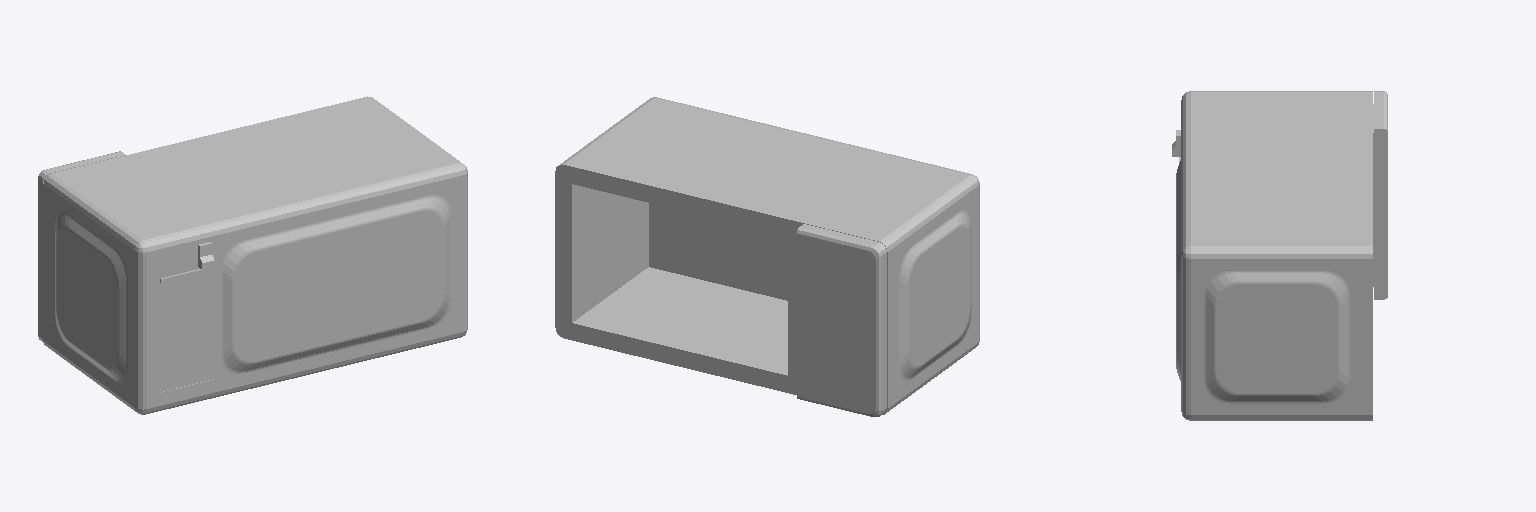
The model's file is data microwave body.obj.
The picture shows the model from 3 angles: view 1: azimuth 30°, elevation 25°; view 2: azimuth 150°, elevation 25°; view 3: azimuth 270°, elevation 25°; orthographic projection.
Visible parts, largest first — view 1: Plane.016_Plane.022, Plane.015_Plane.021, Plane.014_Plane.020; view 2: Plane.016_Plane.022, Plane.014_Plane.020, Plane.006_Plane.016, Plane.005_Plane.015; view 3: Plane.016_Plane.022, Plane.014_Plane.020.
Part boxes in pixels (bbox=[...]): Plane.016_Plane.022: bbox=[43, 96, 467, 414]; Plane.015_Plane.021: bbox=[160, 271, 213, 391]; Plane.014_Plane.020: bbox=[38, 151, 125, 342]; Plane.016_Plane.022: bbox=[555, 97, 979, 414]; Plane.014_Plane.020: bbox=[797, 224, 886, 416]; Plane.006_Plane.016: bbox=[809, 254, 858, 395]; Plane.005_Plane.015: bbox=[797, 251, 808, 383]; Plane.016_Plane.022: bbox=[1176, 91, 1372, 420]; Plane.014_Plane.020: bbox=[1373, 91, 1387, 299].
Bounding box in the file's own units: 8.2 × 4 × 4.52.